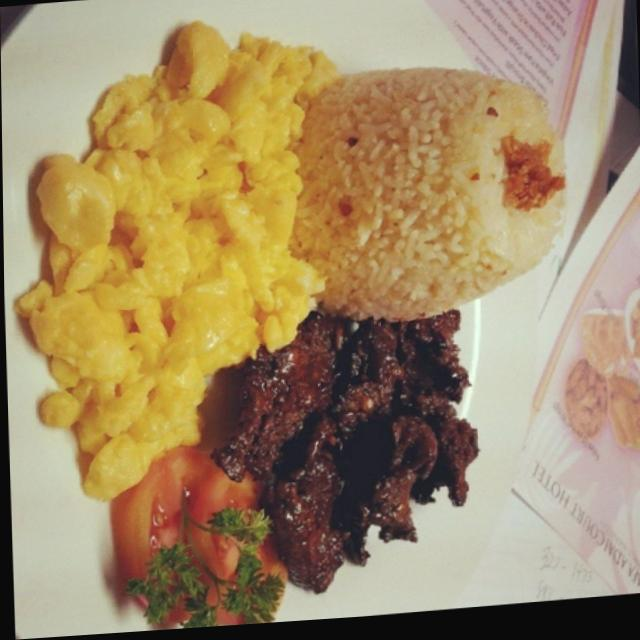鸡蛋料理: (2, 12, 367, 528)
